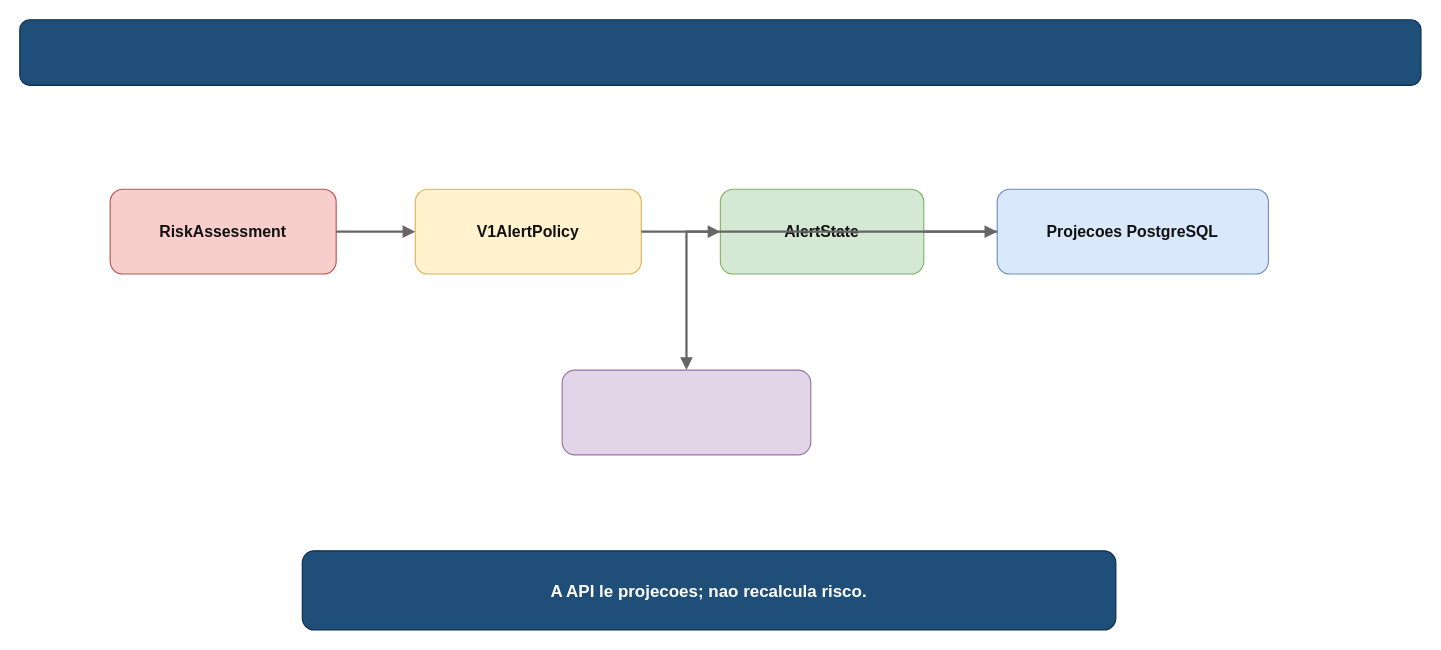
Image size: 1441x650. Some labels were removed from this diagram. The centre of each missing label's shape, as x and y in pixels:
"Alertas e API" belongs at (x=720, y=52).
"Backoffice.Api" belongs at (x=686, y=412).
